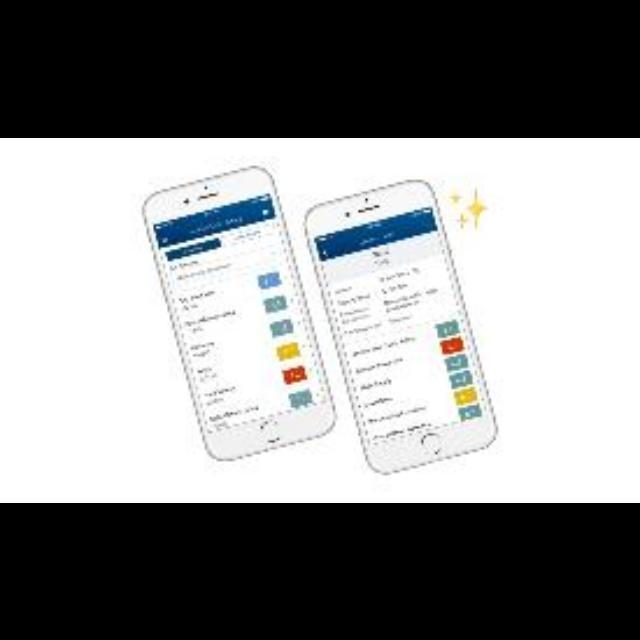PhoneUse: (144, 168, 336, 460), (305, 176, 495, 469)
